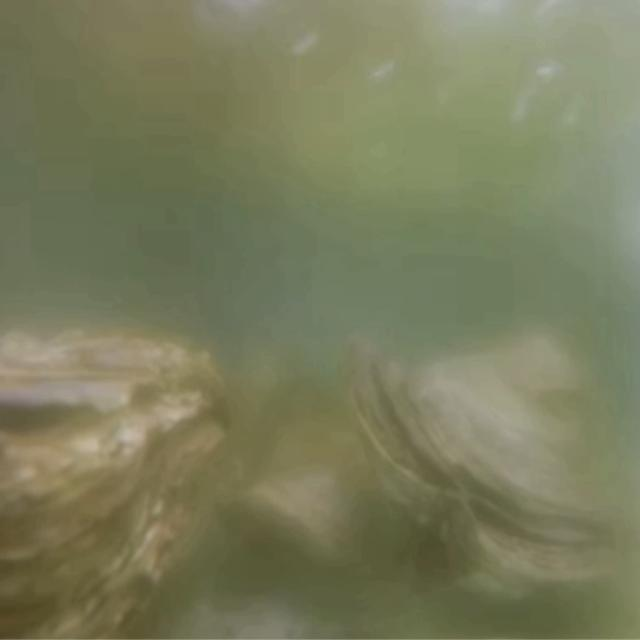Oyster-Closed: (340, 327, 631, 612), (0, 325, 244, 633)
Oyster-Indeterminate: (233, 423, 383, 575)
